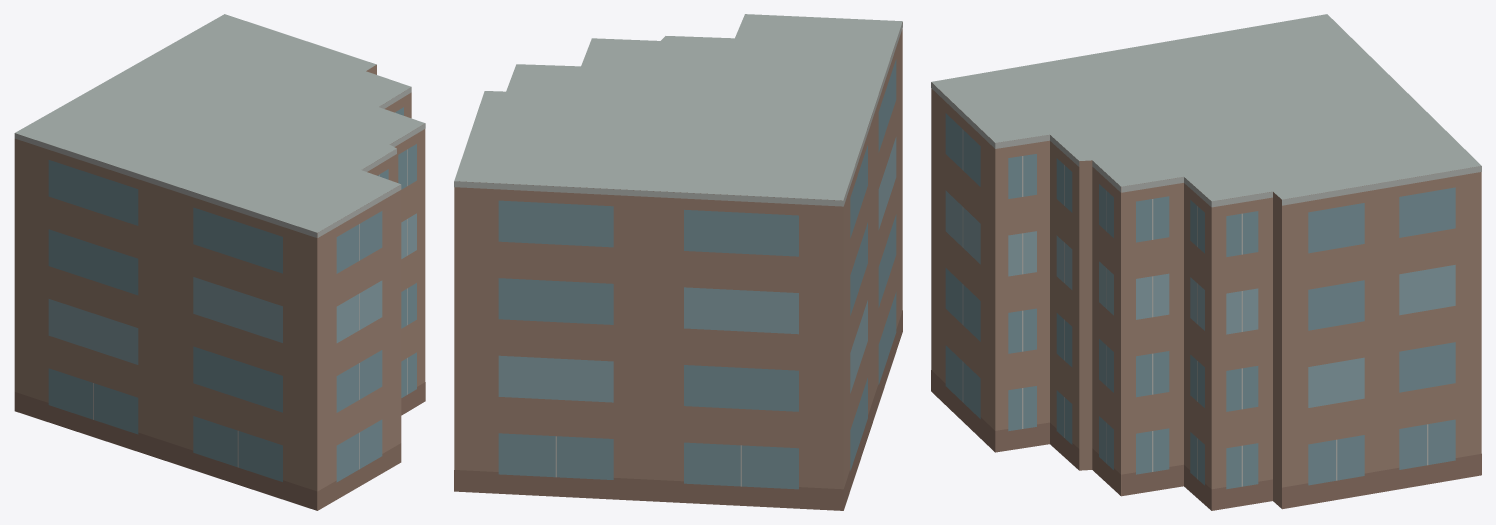
File: survey-upis-32637403.glb
The picture shows the model from 3 angles, left to right: view 1: azimuth 30°, elevation 25°; view 2: azimuth 150°, elevation 25°; view 3: azimuth 270°, elevation 25°; orthographic projection. The views are drawn at different scales.
Visible parts, largest first — view 1: survey-upis-32637403.tmp; view 2: survey-upis-32637403.tmp; view 3: survey-upis-32637403.tmp.
Part boxes in pixels (x1,y1,x2,y2): survey-upis-32637403.tmp: [14, 14, 425, 510]; survey-upis-32637403.tmp: [454, 14, 902, 510]; survey-upis-32637403.tmp: [931, 14, 1481, 510].
Size of the model in its own units: 16.31 by 12.55 by 20.25.
